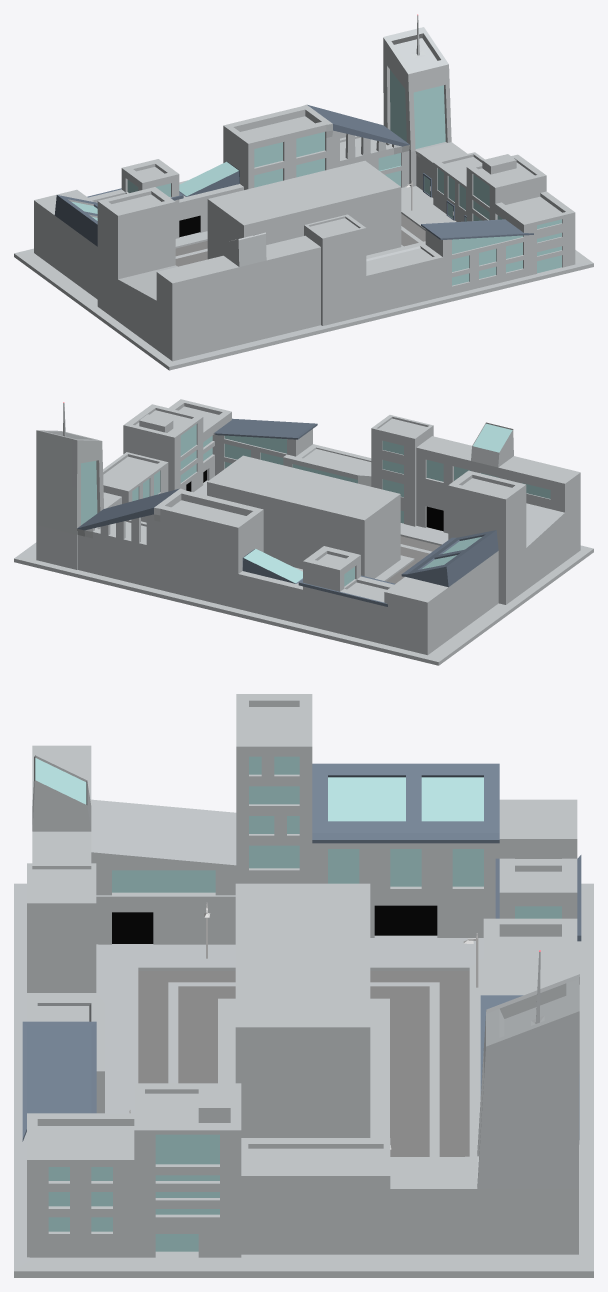
The model's file is ville2.glb.
The picture shows the model from 3 angles, top to bottom: view 1: azimuth 30°, elevation 25°; view 2: azimuth 150°, elevation 25°; view 3: azimuth 270°, elevation 25°; orthographic projection. The views are drawn at different scales.
Parts seen in each view (by area): view 1: Cube.001, Cube.009, Cube; view 2: Cube.001, Cube.009, Cube; view 3: Cube.001, Cube, Cube.009.
Boxes of the visible parts, bbox=[...] form: Cube.001: bbox=[34, 14, 575, 361]; Cube.009: bbox=[207, 160, 401, 259]; Cube: bbox=[14, 186, 593, 370]; Cube.001: bbox=[36, 399, 580, 655]; Cube.009: bbox=[207, 455, 400, 578]; Cube: bbox=[14, 480, 593, 665]; Cube.001: bbox=[22, 694, 581, 1257]; Cube: bbox=[14, 883, 593, 1277]; Cube.009: bbox=[235, 883, 370, 1137].
Size of the model in its own units: 379 by 135 by 240.
